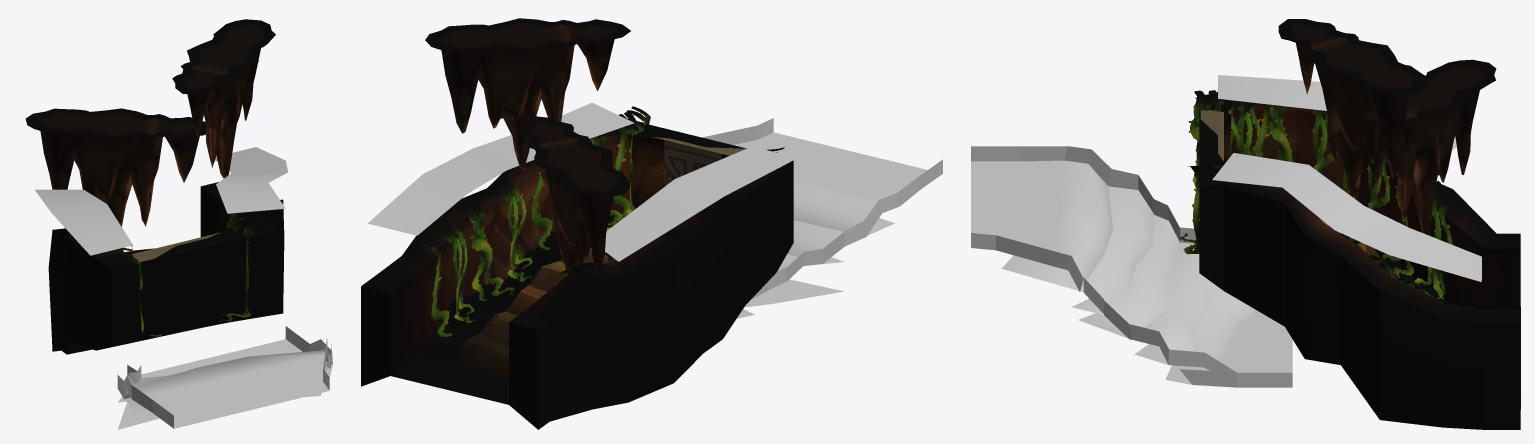
Rendered from Dungeon_021_GoalStepD_003.fbx.
3 views of the same model, side by side, from view 1: azimuth 30°, elevation 25°; view 2: azimuth 150°, elevation 25°; view 3: azimuth 270°, elevation 25° (orthographic). The views are drawn at different scales.
Visible parts, largest first — view 1: Dan1, Dan2 (1), Dungeon_011_Iwa004_1, Dun_011_Door_002_old, Dungeon_011_Iwa004_1 (1), Dungeon_021_Tsuta_002, Dun_011_Door_002, Dungeon_021_Tsuta_001, Dun_011_Door_003_WarpRoom; view 2: Dan1, Dan2 (1), Dungeon_011_Iwa004_1 (1), Dungeon_021_Tsuta_002, Dungeon_011_Iwa004_1, Dungeon_021_Tsuta_001, Dan1_shadow, Dan2, Dun_011_Door_002_old, Dun_011_Door_003_WarpRoom; view 3: Dan1, Dan2 (1), Dungeon_011_Iwa004_1 (1), Dungeon_021_Tsuta_002, Dungeon_011_Iwa004_1, Dungeon_021_Tsuta_001, Dun_011_Door_002_old, Dun_011_Door_003_WarpRoom.
Part boxes in pixels (x1=…): Dan1: x1=48, y1=182, x2=284, y2=354; Dan2 (1): x1=117, y1=326, x2=332, y2=429; Dungeon_011_Iwa004_1: x1=25, y1=108, x2=205, y2=226; Dun_011_Door_002_old: x1=101, y1=225, x2=270, y2=338; Dungeon_011_Iwa004_1 (1): x1=172, y1=19, x2=275, y2=178; Dungeon_021_Tsuta_002: x1=35, y1=147, x2=287, y2=255; Dun_011_Door_002: x1=103, y1=220, x2=270, y2=339; Dungeon_021_Tsuta_001: x1=110, y1=211, x2=264, y2=336; Dun_011_Door_003_WarpRoom: x1=132, y1=232, x2=219, y2=262; Dan1: x1=361, y1=131, x2=793, y2=429; Dan2 (1): x1=702, y1=118, x2=942, y2=318; Dungeon_011_Iwa004_1 (1): x1=425, y1=18, x2=630, y2=169; Dungeon_021_Tsuta_002: x1=367, y1=102, x2=797, y2=261; Dungeon_011_Iwa004_1: x1=518, y1=116, x2=630, y2=277; Dungeon_021_Tsuta_001: x1=417, y1=106, x2=784, y2=337; Dan1_shadow: x1=391, y1=220, x2=618, y2=403; Dan2: x1=391, y1=247, x2=692, y2=404; Dun_011_Door_002_old: x1=613, y1=119, x2=746, y2=208; Dun_011_Door_003_WarpRoom: x1=653, y1=137, x2=745, y2=186; Dan1: x1=1199, y1=94, x2=1520, y2=429; Dan2 (1): x1=971, y1=146, x2=1292, y2=387; Dungeon_011_Iwa004_1 (1): x1=1278, y1=19, x2=1428, y2=198; Dungeon_021_Tsuta_002: x1=1212, y1=75, x2=1481, y2=281; Dungeon_011_Iwa004_1: x1=1368, y1=59, x2=1496, y2=234; Dungeon_021_Tsuta_001: x1=1179, y1=90, x2=1455, y2=299; Dun_011_Door_002_old: x1=1199, y1=96, x2=1232, y2=182; Dun_011_Door_003_WarpRoom: x1=1200, y1=110, x2=1223, y2=160.
Size of what is drawn, in the model's own units: 8.47 by 7.6 by 11.5.
